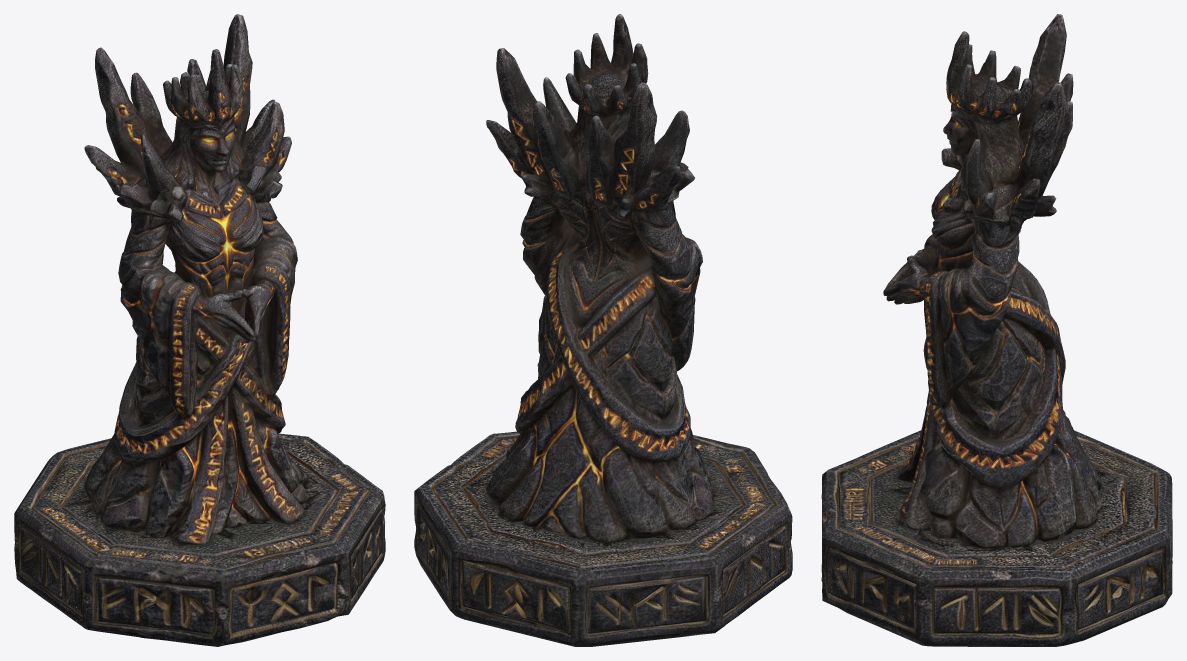
File: arquimaga_preto.glb
3 renders of one model, left to right at view 1: azimuth 30°, elevation 25°; view 2: azimuth 150°, elevation 25°; view 3: azimuth 270°, elevation 25°, orthographic.
Visible parts, largest first — view 1: tripo_node_2a83bd2d-82be-4d53-88ce-6330ed96c784; view 2: tripo_node_2a83bd2d-82be-4d53-88ce-6330ed96c784; view 3: tripo_node_2a83bd2d-82be-4d53-88ce-6330ed96c784.
Part boxes in pixels (<box>): tripo_node_2a83bd2d-82be-4d53-88ce-6330ed96c784: <box>14,14,385,646</box>; tripo_node_2a83bd2d-82be-4d53-88ce-6330ed96c784: <box>414,14,792,646</box>; tripo_node_2a83bd2d-82be-4d53-88ce-6330ed96c784: <box>821,14,1172,646</box>.
Bounding box in the file's own units: 0.573 × 0.9803 × 0.5738.
1 material, 1 textured.
